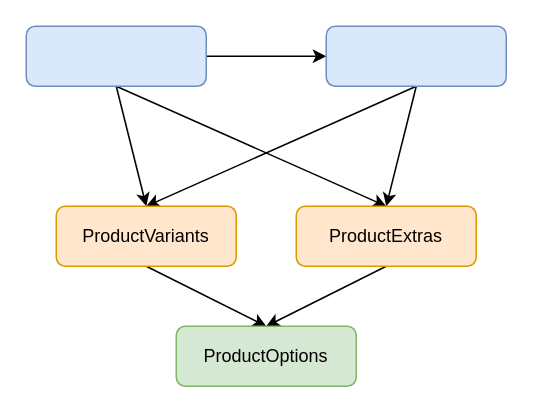
The diagram is 533 pixels wide and 413 high, and some of its shapes have lost their labels. Each missing label, with the centre of its shape:
ProductAdditions: pixel 415 55
Products: pixel 115 55
